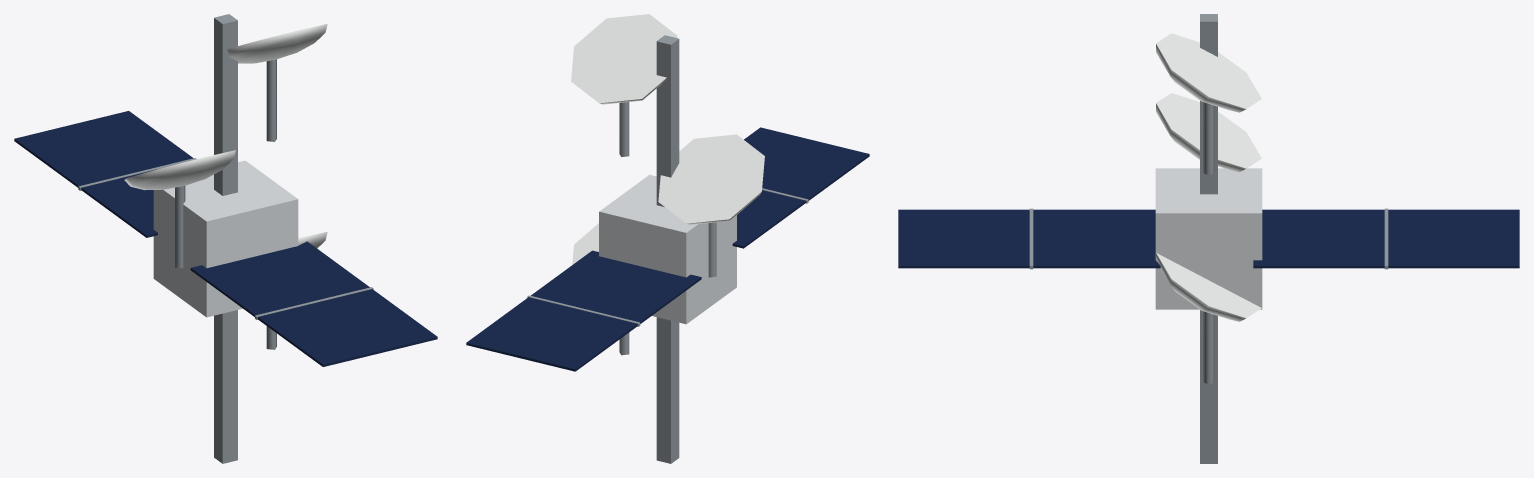
The model's file is space_orbital_relay_t1_lod1.glb.
3 views of the same model, side by side, from view 1: azimuth 30°, elevation 25°; view 2: azimuth 150°, elevation 25°; view 3: azimuth 270°, elevation 25° (orthographic). The views are drawn at different scales.
Visible parts, largest first — view 1: body, solar_0, solar_1, antenna_1, antenna_2, antenna_0; view 2: body, solar_1, antenna_1, antenna_2, solar_0, antenna_0; view 3: body, solar_1, solar_0, antenna_2, antenna_1, antenna_0.
Part boxes in pixels (x1,y1,x2,y2): body: (153, 14, 298, 463); solar_0: (190, 241, 437, 366); solar_1: (14, 111, 196, 237); antenna_1: (124, 150, 235, 268); antenna_2: (227, 24, 327, 141); antenna_0: (266, 231, 327, 349); body: (599, 35, 736, 463); solar_1: (466, 250, 701, 371); antenna_1: (658, 134, 764, 277); antenna_2: (571, 14, 677, 156); solar_0: (732, 127, 869, 248); antenna_0: (572, 223, 629, 355); body: (1155, 14, 1262, 463); solar_1: (1253, 208, 1519, 269); solar_0: (898, 208, 1160, 269); antenna_2: (1156, 33, 1261, 175); antenna_1: (1156, 93, 1261, 172); antenna_0: (1156, 253, 1261, 384).
Bounding box in the file's own units: 5.16 × 11 × 14.
